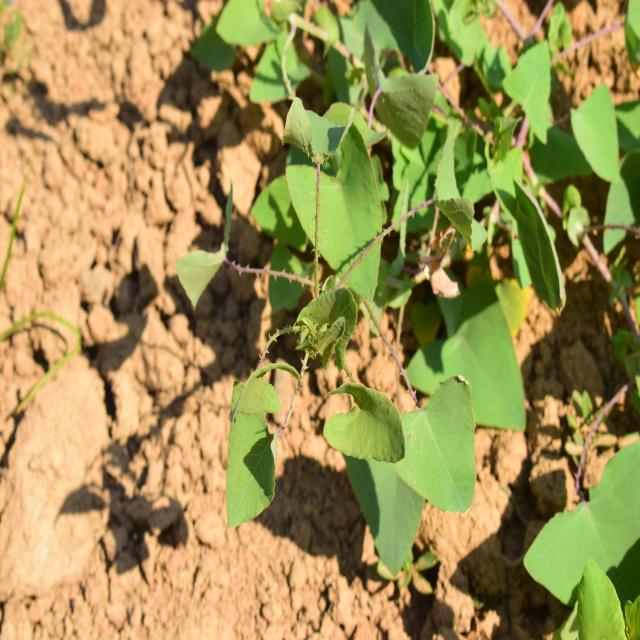Asiatic_Smartweed: (213, 287, 482, 558), (182, 94, 476, 292)
